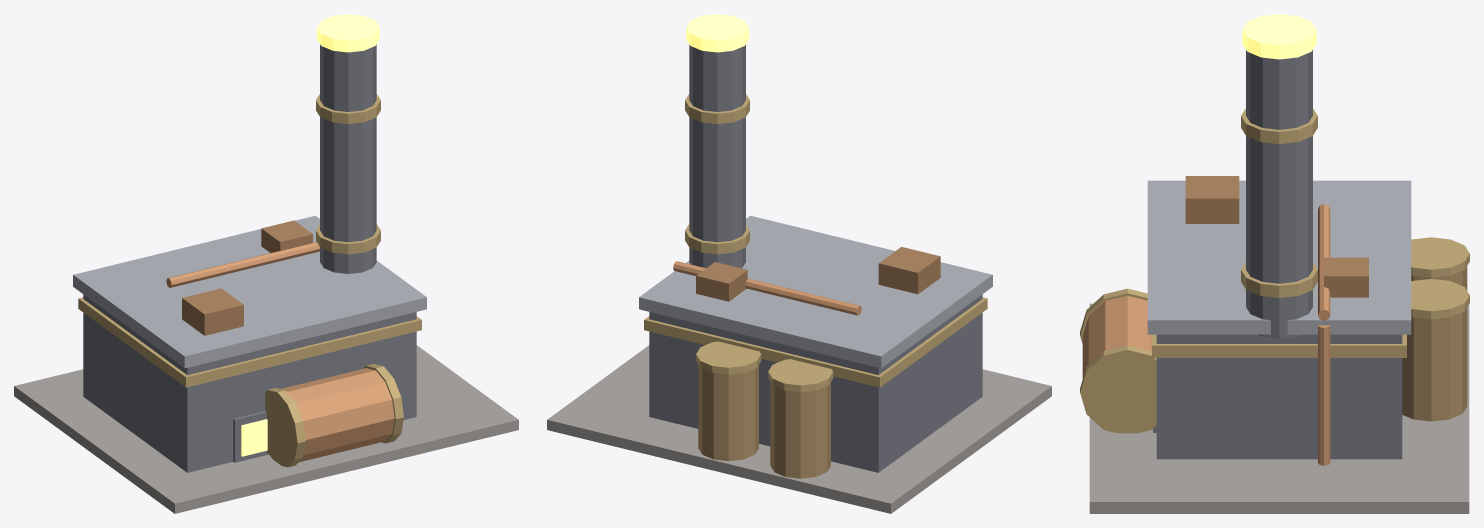
File: gearforge_industry_works.glb
3 views of the same model, side by side, from view 1: azimuth 30°, elevation 25°; view 2: azimuth 150°, elevation 25°; view 3: azimuth 270°, elevation 25° (orthographic). The views are drawn at different scales.
Visible parts, largest first — view 1: gearforge_industry_works_roof, gearforge_industry_works_hall, gearforge_industry_works_pad, gearforge_industry_works_chimney, gearforge_industry_works_boiler, gearforge_industry_works_hall_trim, gearforge_industry_works_boiler_cap_a, gearforge_industry_works_vent_a, gearforge_industry_works_chimney_lip, gearforge_industry_works_pipe_h, gearforge_industry_works_vent_b, gearforge_industry_works_chimney_band_a (+4 smaller); view 2: gearforge_industry_works_roof, gearforge_industry_works_pad, gearforge_industry_works_hall, gearforge_industry_works_chimney, gearforge_industry_works_tank_0, gearforge_industry_works_tank_1, gearforge_industry_works_hall_trim, gearforge_industry_works_vent_a, gearforge_industry_works_chimney_lip, gearforge_industry_works_tank_lid_1, gearforge_industry_works_tank_lid_0, gearforge_industry_works_pipe_h (+3 smaller); view 3: gearforge_industry_works_hall, gearforge_industry_works_roof, gearforge_industry_works_pad, gearforge_industry_works_chimney, gearforge_industry_works_tank_1, gearforge_industry_works_boiler_cap_b, gearforge_industry_works_hall_trim, gearforge_industry_works_boiler, gearforge_industry_works_chimney_lip, gearforge_industry_works_vent_a, gearforge_industry_works_tank_lid_0, gearforge_industry_works_tank_lid_1 (+6 smaller).
Boxes of the visible parts, x1,y1,x2,y2 form: gearforge_industry_works_roof: [73, 215, 426, 368]; gearforge_industry_works_hall: [83, 294, 416, 472]; gearforge_industry_works_pad: [14, 345, 518, 513]; gearforge_industry_works_chimney: [320, 44, 376, 273]; gearforge_industry_works_boiler: [281, 368, 394, 462]; gearforge_industry_works_hall_trim: [78, 297, 421, 387]; gearforge_industry_works_boiler_cap_a: [265, 388, 305, 467]; gearforge_industry_works_vent_a: [182, 288, 243, 335]; gearforge_industry_works_chimney_lip: [317, 14, 379, 52]; gearforge_industry_works_pipe_h: [166, 242, 319, 287]; gearforge_industry_works_vent_b: [261, 220, 312, 252]; gearforge_industry_works_chimney_band_a: [316, 224, 380, 254]; gearforge_industry_works_roof: [639, 215, 992, 368]; gearforge_industry_works_pad: [547, 345, 1051, 513]; gearforge_industry_works_hall: [649, 294, 982, 472]; gearforge_industry_works_chimney: [689, 44, 745, 268]; gearforge_industry_works_tank_0: [770, 382, 830, 478]; gearforge_industry_works_tank_1: [698, 365, 758, 460]; gearforge_industry_works_hall_trim: [644, 297, 987, 387]; gearforge_industry_works_vent_a: [878, 247, 940, 294]; gearforge_industry_works_chimney_lip: [686, 14, 748, 52]; gearforge_industry_works_tank_lid_1: [696, 341, 761, 374]; gearforge_industry_works_tank_lid_0: [768, 359, 833, 392]; gearforge_industry_works_pipe_h: [673, 261, 861, 315]; gearforge_industry_works_hall: [1156, 334, 1402, 459]; gearforge_industry_works_roof: [1147, 180, 1411, 334]; gearforge_industry_works_pad: [1089, 303, 1469, 513]; gearforge_industry_works_chimney: [1246, 50, 1312, 338]; gearforge_industry_works_tank_1: [1402, 307, 1467, 421]; gearforge_industry_works_boiler_cap_b: [1080, 345, 1156, 433]; gearforge_industry_works_hall_trim: [1152, 334, 1406, 357]; gearforge_industry_works_boiler: [1082, 295, 1151, 378]; gearforge_industry_works_chimney_lip: [1242, 14, 1316, 59]; gearforge_industry_works_vent_a: [1185, 176, 1239, 223]; gearforge_industry_works_tank_lid_0: [1411, 237, 1469, 277]; gearforge_industry_works_tank_lid_1: [1411, 279, 1469, 319].
Size of the model in its own units: 10.5 by 10.67 by 8.72.
